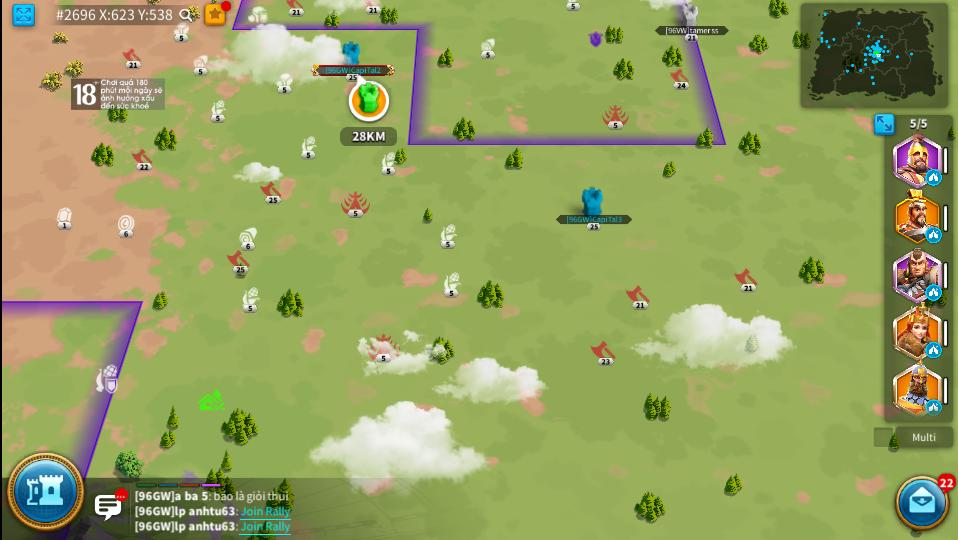gem-z-out: (57, 207, 73, 229)
march_idle: (925, 228, 942, 242), (926, 170, 940, 185), (927, 400, 941, 415), (926, 285, 940, 299), (928, 343, 940, 357)
